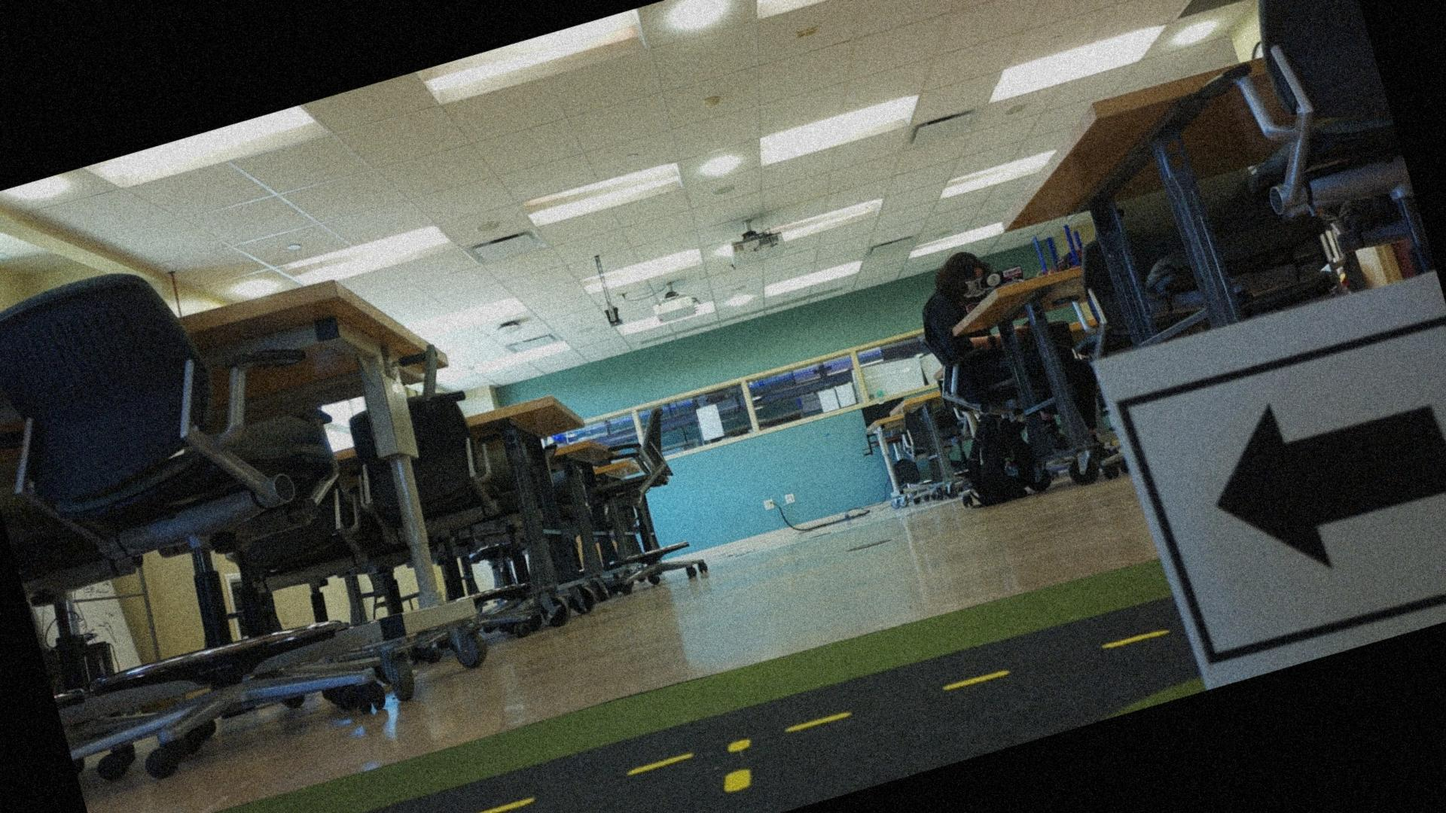turnright: (1130, 321, 1445, 667)
yellowline: (128, 601, 1170, 812), (709, 736, 764, 800)
